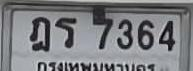3: (116, 18, 132, 48)
4: (158, 19, 174, 50)
6: (137, 19, 153, 49)
7: (92, 14, 112, 48)
A14: (29, 16, 49, 51)
A35: (54, 17, 76, 47)
